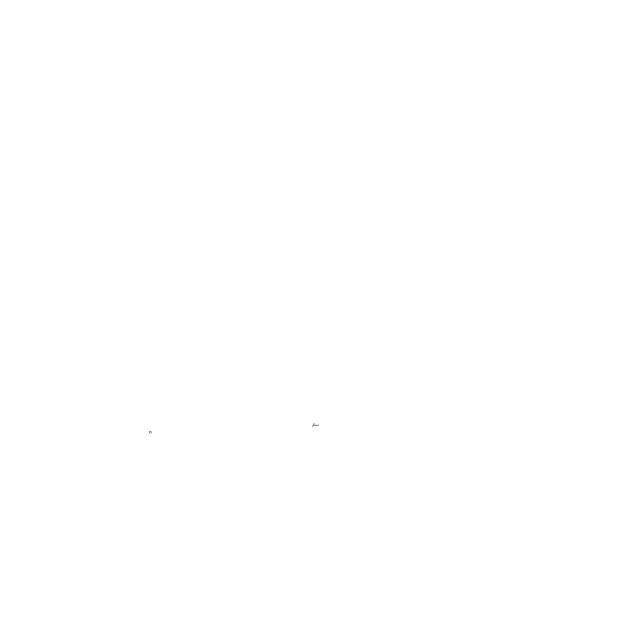chain: (150, 432, 152, 434)
enseble_chain: (312, 423, 320, 427)
